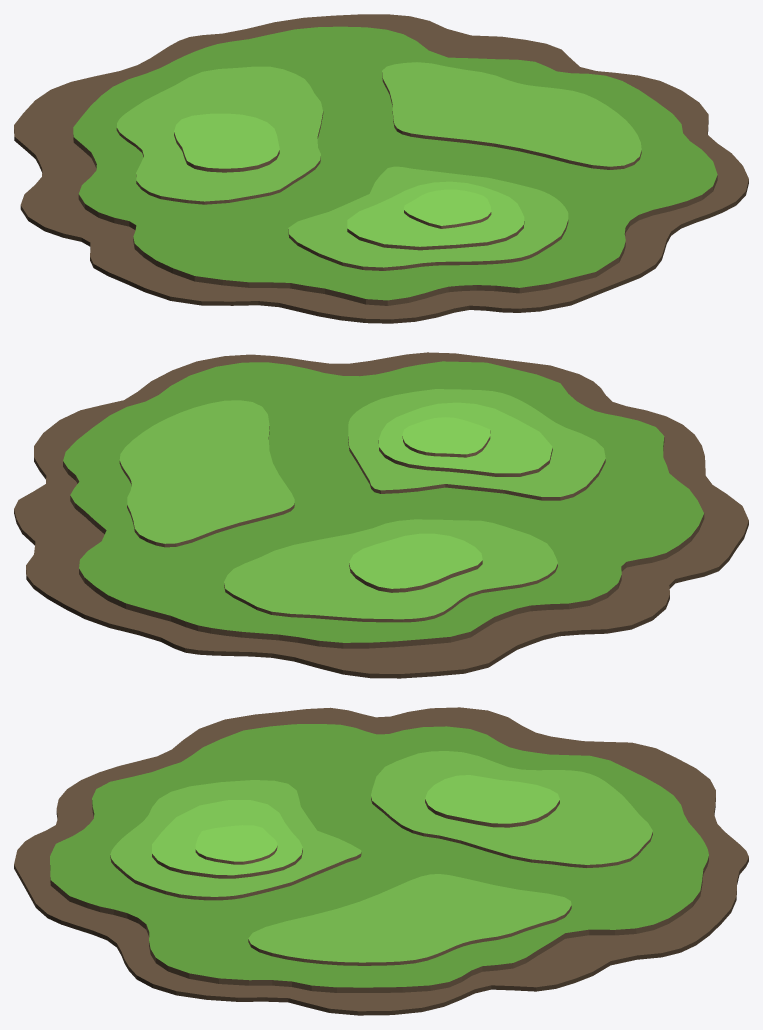
3 views of the same model, one above another, from view 1: azimuth 30°, elevation 25°; view 2: azimuth 150°, elevation 25°; view 3: azimuth 270°, elevation 25° (orthographic). The views are drawn at different scales.
Parts seen in each view (by area): view 1: pDisc3, pDisc2, pDisc6, pDisc7, pDisc5, pDisc8, pDisc9, TEMPORARY_IMPORT_NAMESPACE___:Mesh; view 2: pDisc3, pDisc2, pDisc7, pDisc6, pDisc5, pDisc8, pDisc9, TEMPORARY_IMPORT_NAMESPACE___:Mesh; view 3: pDisc3, pDisc2, pDisc6, pDisc7, pDisc5, pDisc8, pDisc9, TEMPORARY_IMPORT_NAMESPACE___:Mesh.
Boxes of the visible parts, left/top/right/bottom form: pDisc3: left=73, top=26, right=717, bottom=305; pDisc2: left=14, top=14, right=748, bottom=323; pDisc6: left=382, top=62, right=641, bottom=169; pDisc7: left=116, top=66, right=323, bottom=204; pDisc5: left=288, top=166, right=568, bottom=270; pDisc8: left=347, top=181, right=524, bottom=250; pDisc9: left=174, top=113, right=279, bottom=172; TEMPORARY_IMPORT_NAMESPACE___:Mesh: left=404, top=189, right=491, bottom=228; pDisc3: left=63, top=361, right=704, bottom=648; pDisc2: left=14, top=352, right=748, bottom=678; pDisc7: left=224, top=519, right=557, bottom=622; pDisc6: left=119, top=400, right=294, bottom=547; pDisc5: left=348, top=389, right=605, bottom=500; pDisc8: left=378, top=402, right=552, bottom=476; pDisc9: left=349, top=533, right=482, bottom=592; TEMPORARY_IMPORT_NAMESPACE___:Mesh: left=402, top=417, right=490, bottom=457; pDisc3: left=50, top=724, right=708, bottom=992; pDisc2: left=14, top=707, right=748, bottom=1015; pDisc6: left=248, top=874, right=571, bottom=965; pDisc7: left=371, top=751, right=652, bottom=867; pDisc5: left=110, top=780, right=361, bottom=900; pDisc8: left=152, top=800, right=302, bottom=878; pDisc9: left=425, top=775, right=559, bottom=827; TEMPORARY_IMPORT_NAMESPACE___:Mesh: left=195, top=825, right=277, bottom=864.
Size of the model in its own units: 98.9 by 3.03 by 101.
